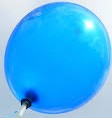Balloon: (4, 2, 112, 113)
